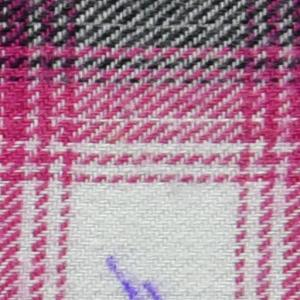Stain: (101, 249, 166, 300)
